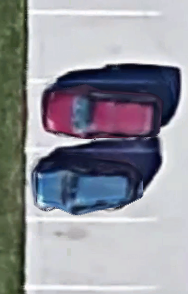Occupied: (29, 82, 158, 152), (29, 151, 157, 219)
Vacant: (29, 219, 158, 289), (29, 13, 158, 83)
